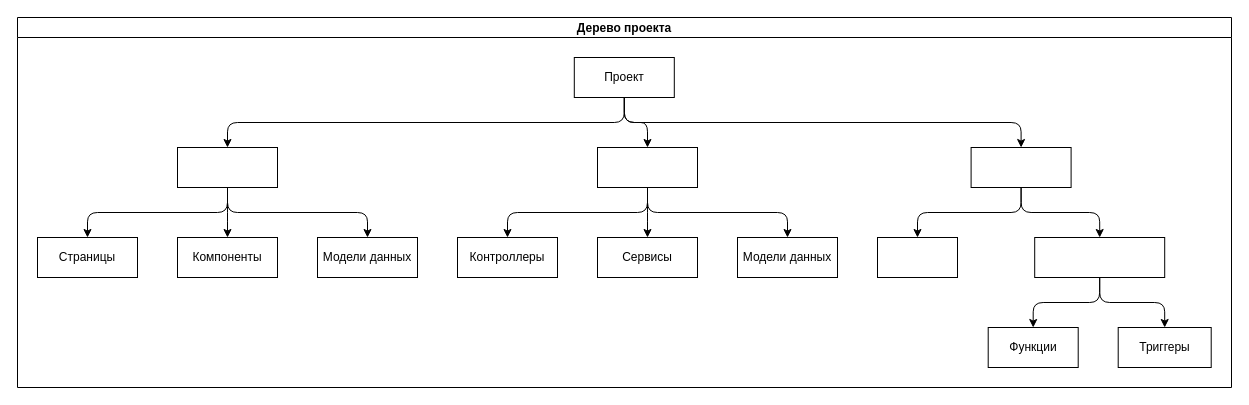
Image size: 1249x405. Some labels were removed from this diagram. The centre of each missing label's shape, as x and y in pixels:
База данных: pixel 1020 167
Клиент: pixel 227 167
Программируемые элементы: pixel 1099 257
Сервер: pixel 647 167
Таблицы: pixel 917 257
